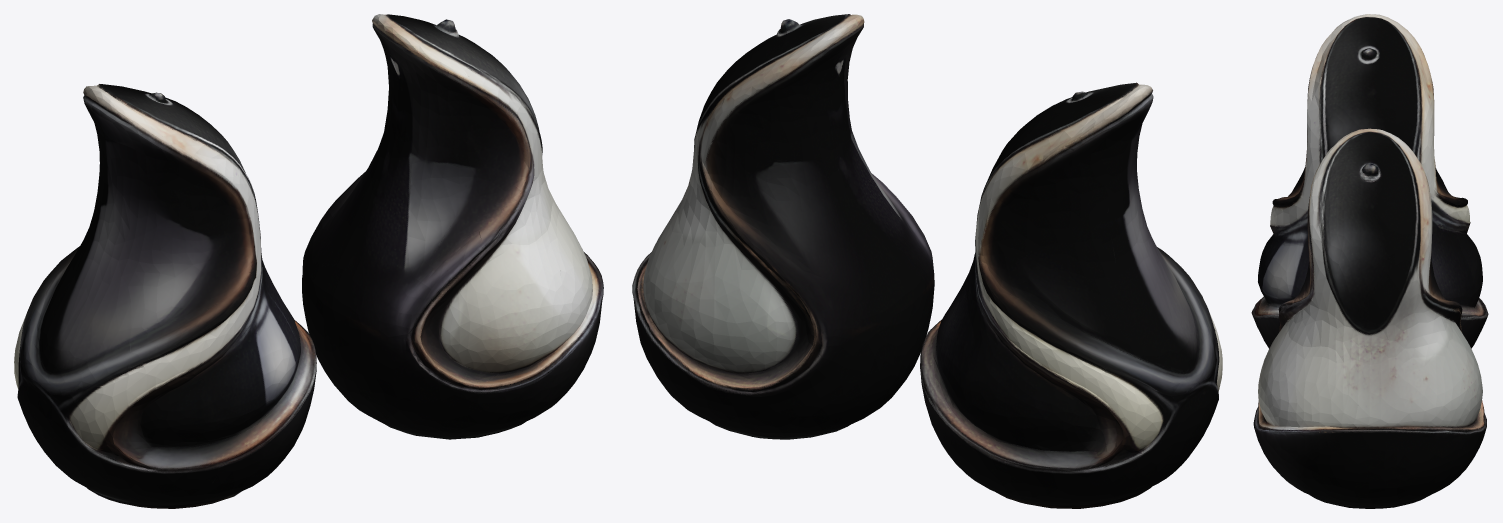
Rendered from ceramic-salt-and-pepper-shaker-futuristic.jpeg.glb.
The picture shows the model from 3 angles, left to right: view 1: azimuth 30°, elevation 25°; view 2: azimuth 150°, elevation 25°; view 3: azimuth 270°, elevation 25°; orthographic projection. The views are drawn at different scales.
Visible parts, largest first — view 1: world; view 2: world; view 3: world.
Part boxes in pixels (x1,y1,x2,y2): world: (14, 14, 603, 508); world: (632, 14, 1222, 508); world: (1251, 14, 1488, 508).
Bounding box in the file's own units: 0.9991 × 0.7 × 0.4619.
1 material, 1 textured.
